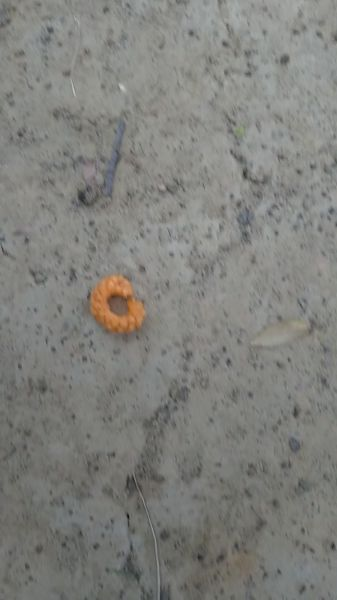eggs: (93, 273, 160, 338)
